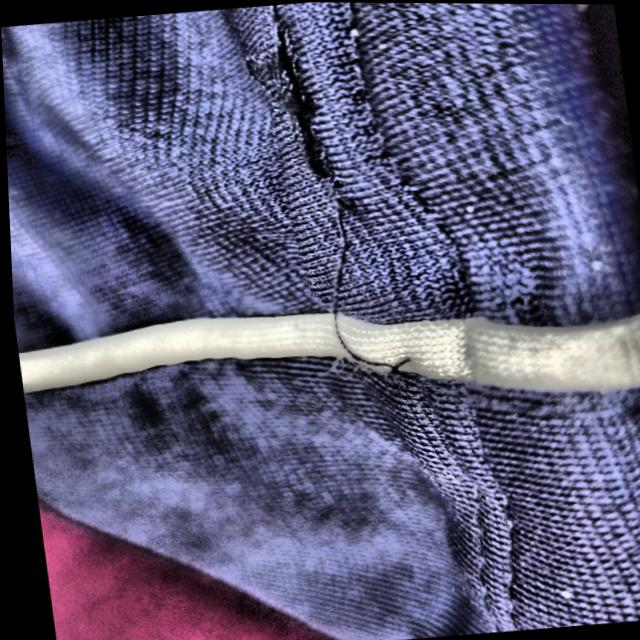Stitch: (300, 160, 444, 452)
